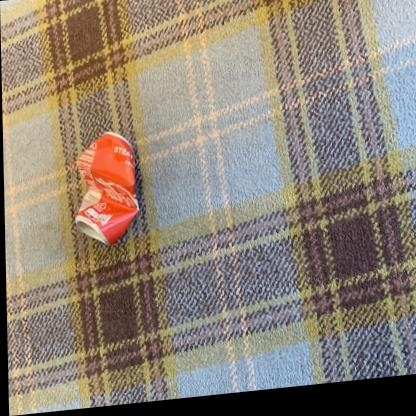trash: (75, 132, 138, 244)
